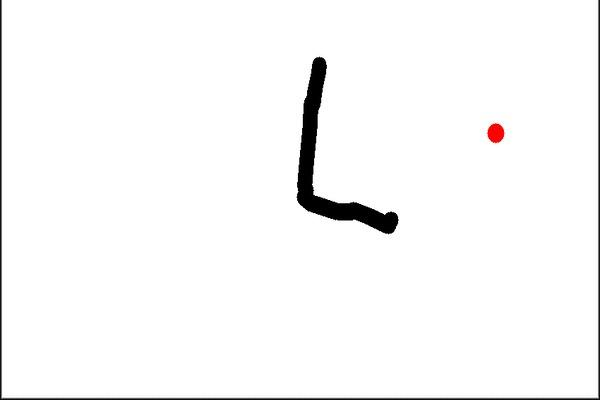L: (287, 49, 407, 242)
